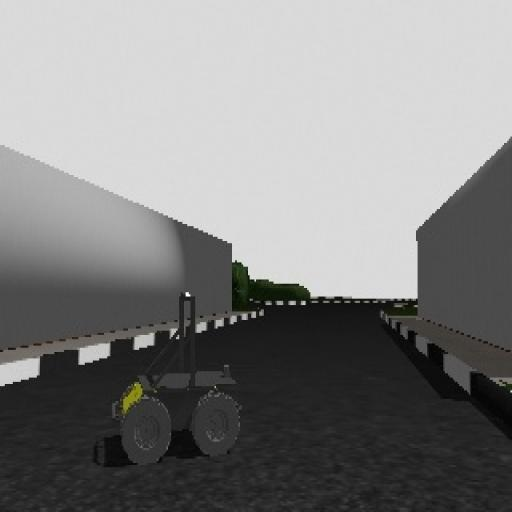huskya200: (99, 281, 259, 491)
